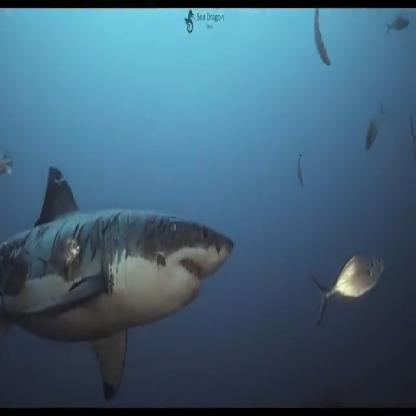white-shark: (0, 165, 236, 401)
